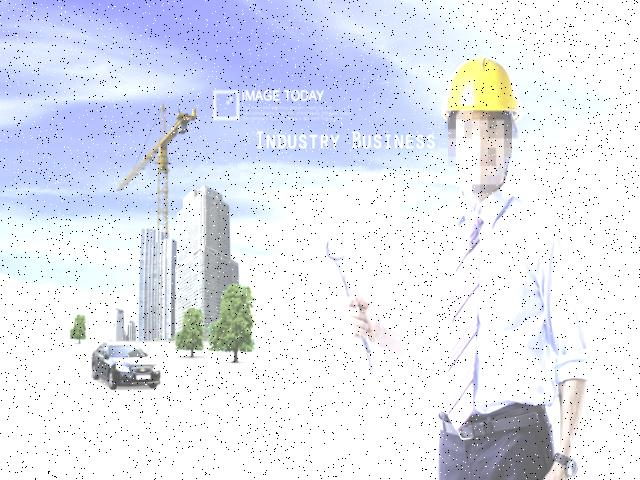Helmet: (435, 50, 526, 128)
